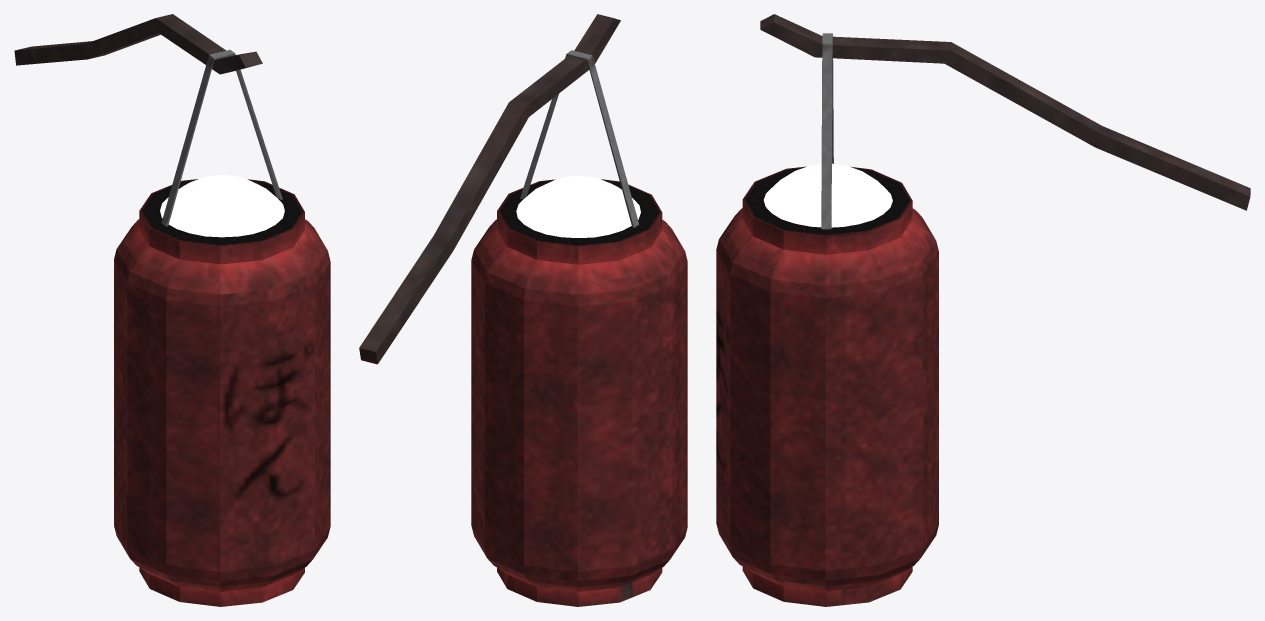
The model's file is Indoor_Lanturn_Hangingfbx.fbx.
3 renders of one model, left to right at view 1: azimuth 30°, elevation 25°; view 2: azimuth 150°, elevation 25°; view 3: azimuth 270°, elevation 25°, orthographic. The views are drawn at different scales.
Parts seen in each view (by area): view 1: Lantern_Paper, Capsule, polySurface22, string1; view 2: Lantern_Paper, polySurface22, Capsule, string1; view 3: Lantern_Paper, polySurface22, Capsule, string1.
Part boxes in pixels (x1,y1,x2,y2): Lantern_Paper: (114, 179, 330, 606); Capsule: (160, 175, 284, 237); polySurface22: (14, 14, 262, 74); string1: (161, 49, 282, 226); Lantern_Paper: (471, 179, 687, 606); polySurface22: (359, 14, 620, 364); Capsule: (516, 176, 640, 237); string1: (520, 50, 639, 227); Lantern_Paper: (716, 166, 938, 606); polySurface22: (760, 14, 1250, 210); Capsule: (763, 163, 892, 227); string1: (821, 33, 833, 229).
Size of the model in its own units: 24.5 by 68.8 by 58.79.
